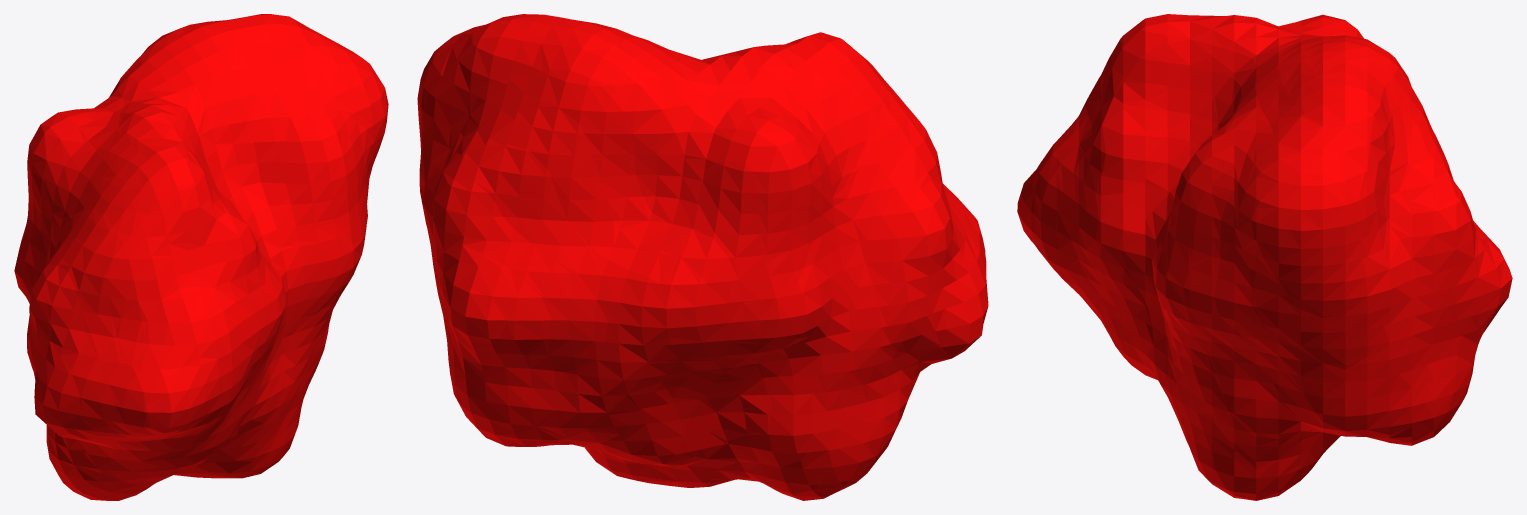
The model's file is yfcF_coarse.dae.
3 views of the same model, side by side, from view 1: azimuth 30°, elevation 25°; view 2: azimuth 150°, elevation 25°; view 3: azimuth 270°, elevation 25° (orthographic). The views are drawn at different scales.
Parts seen in each view (by area): view 1: yfcF; view 2: yfcF; view 3: yfcF.
Part boxes in pixels (box(x1,y1,x2,y2)): yfcF: box(14, 14, 388, 500); yfcF: box(417, 14, 988, 500); yfcF: box(1017, 14, 1512, 500).
Bounding box in the file's own units: 49.21 × 47.32 × 46.83.
